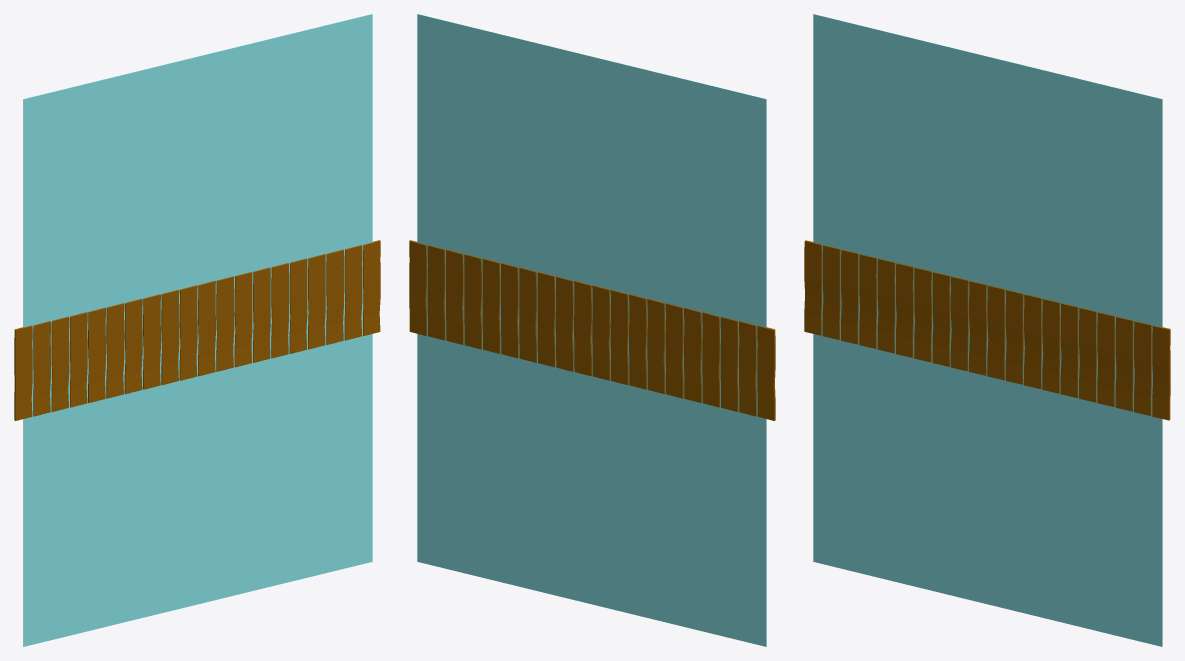
File: Lake_long.fbx
The picture shows the model from 3 angles, left to right: view 1: azimuth 30°, elevation 25°; view 2: azimuth 150°, elevation 25°; view 3: azimuth 330°, elevation 25°; orthographic projection.
Parts seen in each view (by area): view 1: LongLake, Bridge; view 2: LongLake, Bridge; view 3: LongLake, Bridge.
Part boxes in pixels (<box>): LongLake: <box>23,14,372,646</box>; Bridge: <box>14,240,380,420</box>; LongLake: <box>417,14,766,646</box>; Bridge: <box>409,240,775,420</box>; LongLake: <box>813,14,1162,646</box>; Bridge: <box>804,240,1170,420</box>.
Bounding box in the file's own units: 8.38 × 12 × 0.0677.
